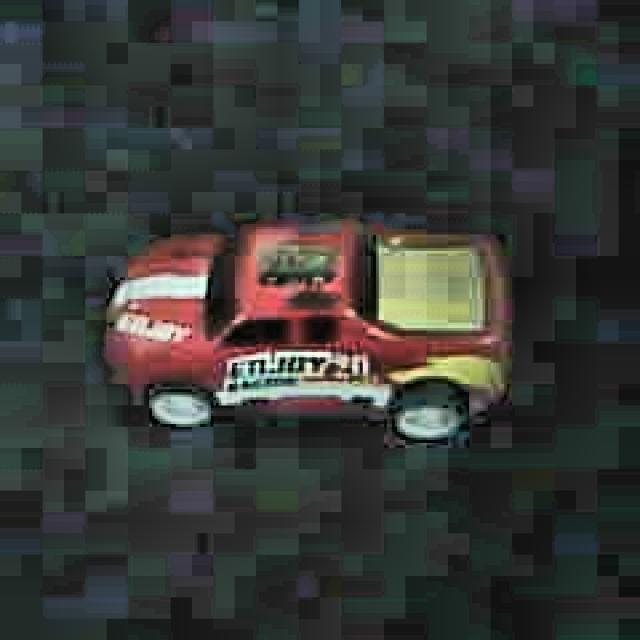car: (96, 212, 520, 456)
